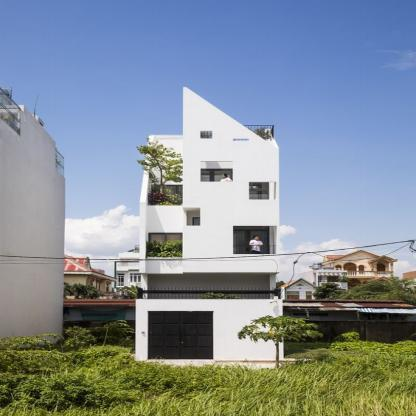Balcony: (183, 125, 274, 141), (234, 246, 277, 263), (201, 182, 235, 199)
Building Outline: (136, 87, 283, 361)
Door: (147, 312, 214, 360), (232, 230, 269, 262), (198, 169, 233, 199)
Facade: (134, 87, 281, 362)
Floor Slab: (140, 262, 282, 268), (184, 200, 280, 205), (183, 141, 274, 146)
Window: (149, 185, 183, 209), (149, 233, 183, 257), (201, 162, 234, 182), (249, 182, 276, 200), (250, 183, 270, 200), (184, 209, 201, 226), (193, 218, 201, 225)
